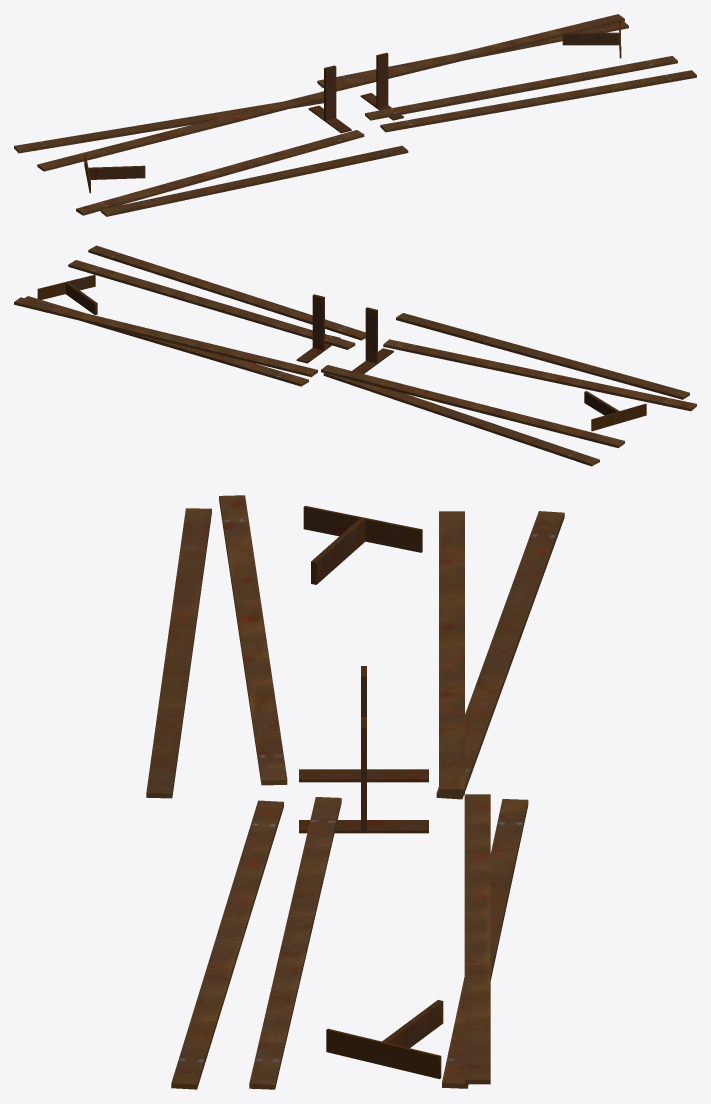
File: Object_Fence_Destroyed.fbx
The picture shows the model from 3 angles, top to bottom: view 1: azimuth 30°, elevation 25°; view 2: azimuth 150°, elevation 25°; view 3: azimuth 270°, elevation 25°; orthographic projection. The views are drawn at different scales.
Parts seen in each view (by area): view 1: Object_Fence_Destroyed; view 2: Object_Fence_Destroyed; view 3: Object_Fence_Destroyed.
Part boxes in pixels (x1=…): Object_Fence_Destroyed: x1=14, y1=14, x2=696, y2=216; Object_Fence_Destroyed: x1=14, y1=245, x2=696, y2=466; Object_Fence_Destroyed: x1=146, y1=495, x2=564, y2=1089.
Size of the model in its own units: 18.41 by 1.54 by 5.52.
